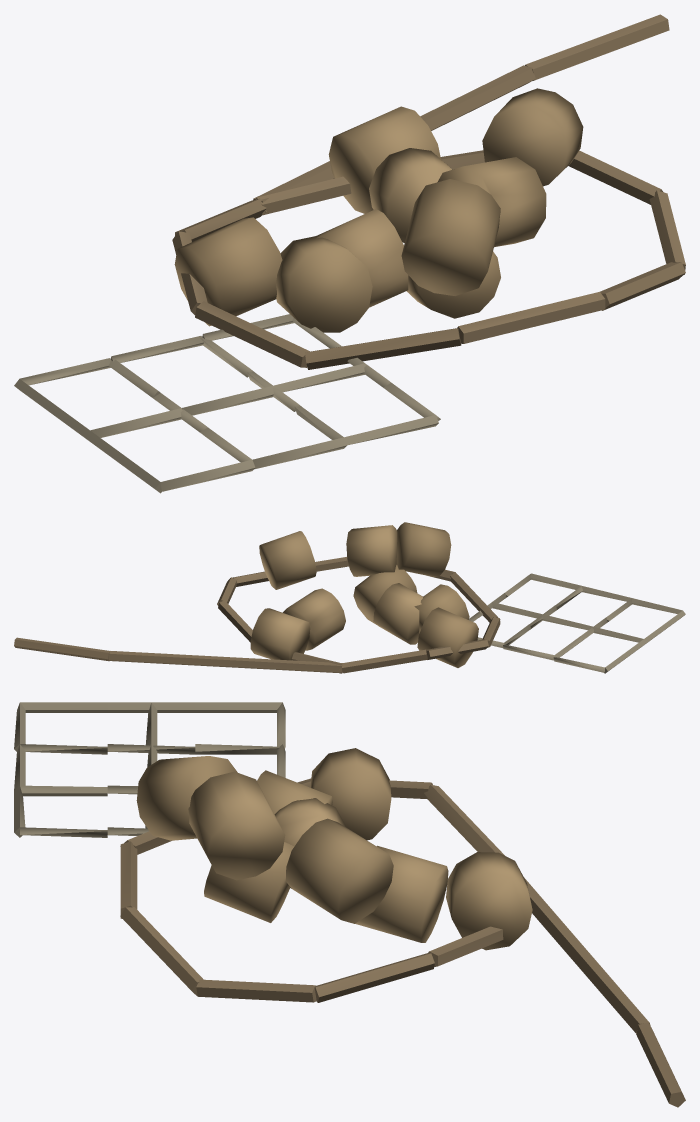
File: float_bundle_a_lod1.glb
The picture shows the model from 3 angles, top to bottom: view 1: azimuth 30°, elevation 25°; view 2: azimuth 150°, elevation 25°; view 3: azimuth 270°, elevation 25°; orthographic projection. The views are drawn at different scales.
Visible parts, largest first — view 1: Surface.001; view 2: Surface.001; view 3: Surface.001.
Part boxes in pixels (box(x1,y1,x2,y2)): Surface.001: box(14, 14, 685, 493); Surface.001: box(14, 522, 685, 673); Surface.001: box(14, 702, 685, 1107).
Bounding box in the file's own units: 2.82 × 0.5049 × 2.04.
